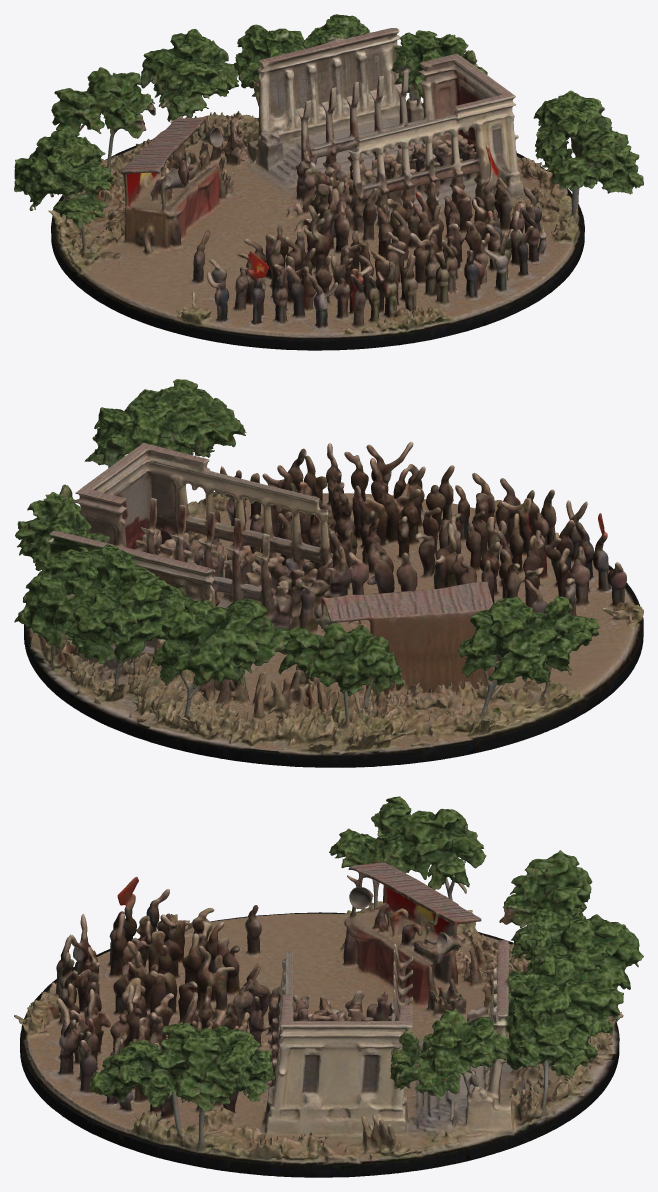
Rendered from thang_loi_toan_quoc.glb.
3 views of the same model, one above another, from view 1: azimuth 30°, elevation 25°; view 2: azimuth 150°, elevation 25°; view 3: azimuth 270°, elevation 25° (orthographic). The views are drawn at different scales.
Size of the model in its own units: 1.87 by 0.4335 by 1.81.
1 material, 1 textured.
